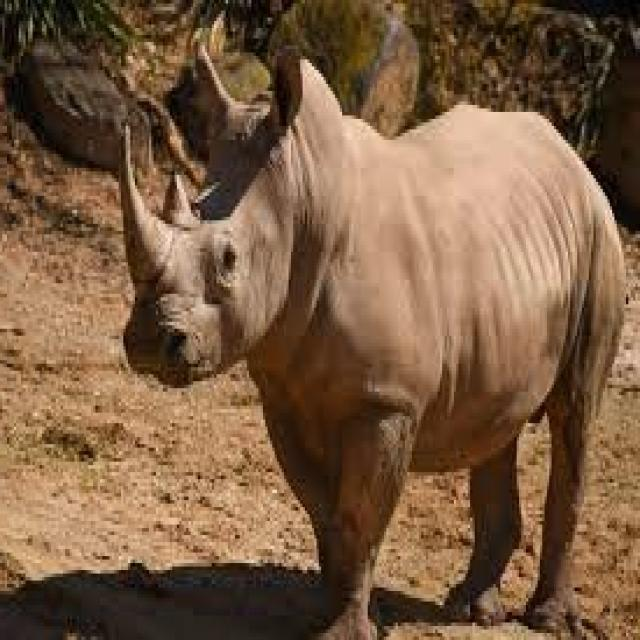rhinoceros: (123, 45, 626, 637)
